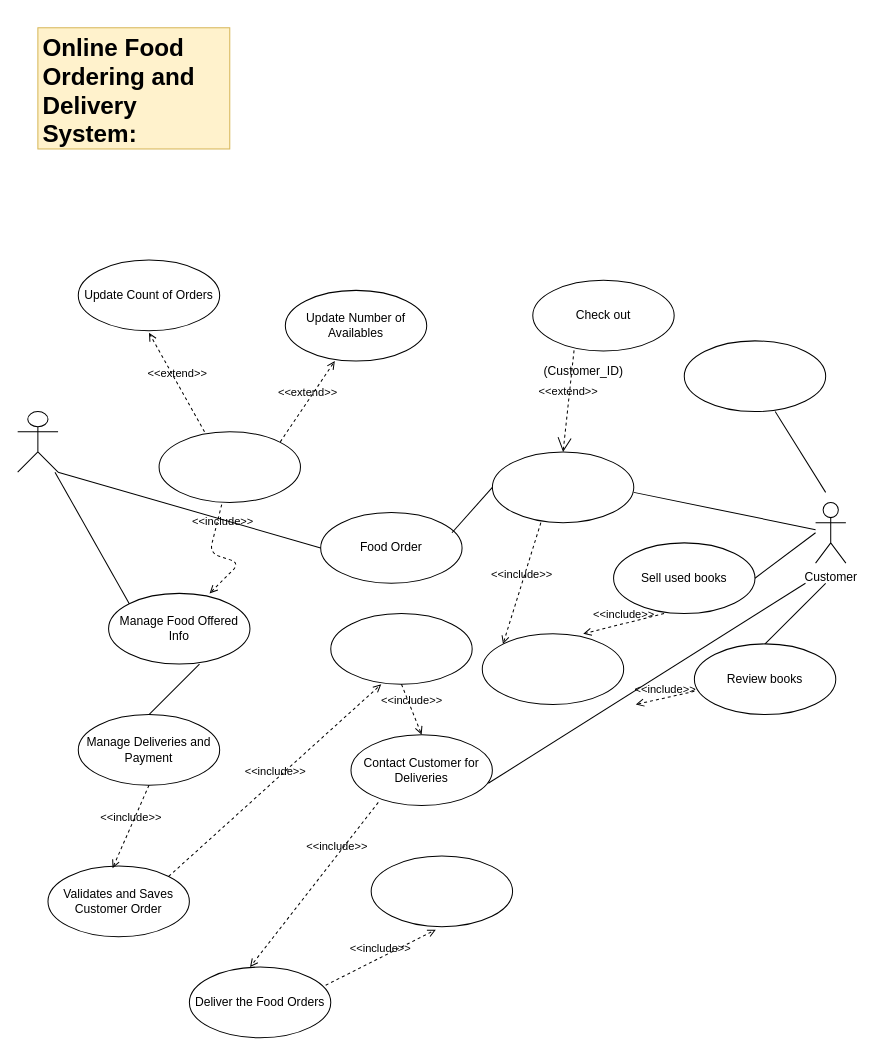
Image size: 875x1055. Some labels were removed from this diagram. The shapes that lost their labels are listed below. From the top down, each one's centre as x and y in pixels, then its label:
point 754,376: Register
point 37,441: Admin
point 229,466: Validates and Save Food New Info
point 562,487: Order books
point 401,648: Checks the Availability of the Food
point 552,668: Log-in
point 441,891: Recieve and Records Payment
